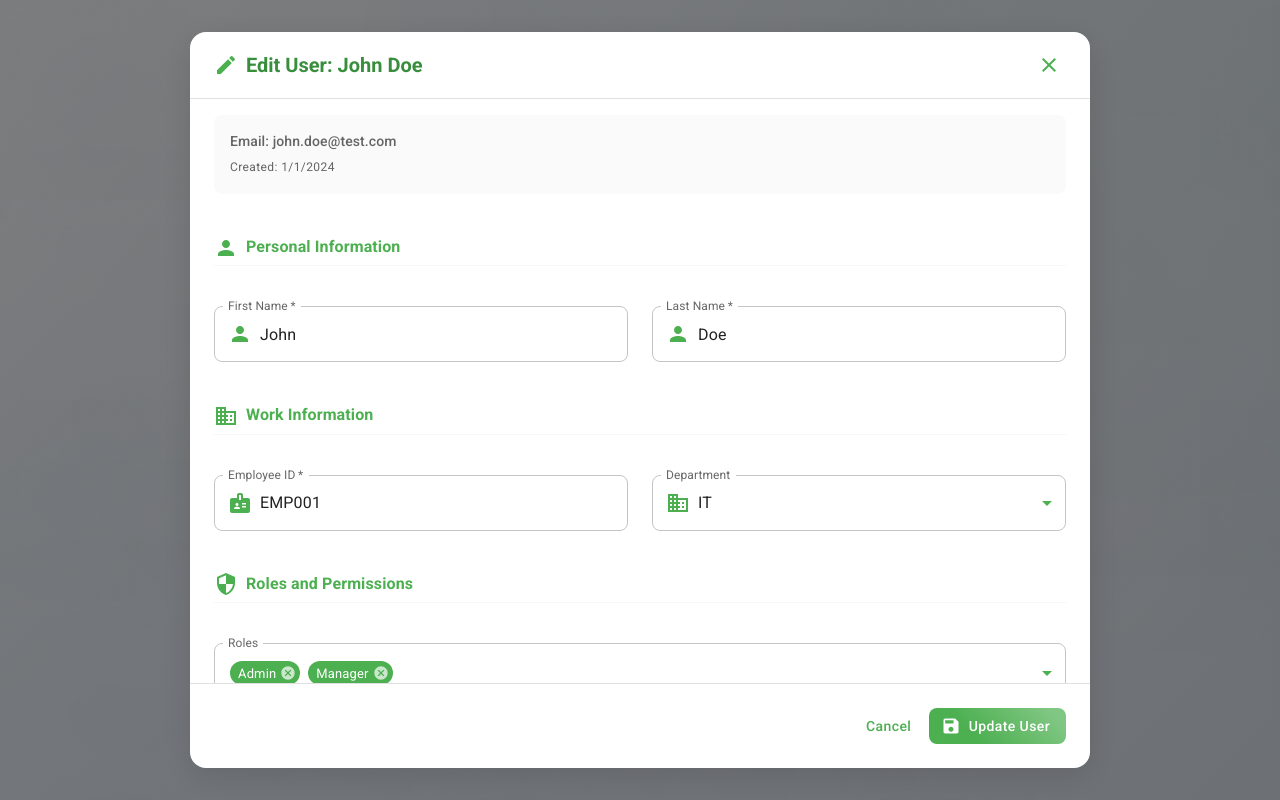
User Management Integration Tests › Error Handling Integration › handles validation errors in forms
The width and height of the screenshot is (1280, 800).
Clear required field
Clear the field showing "John": coordinates (444, 334) top-left (260, 306), bottom-right (628, 362)
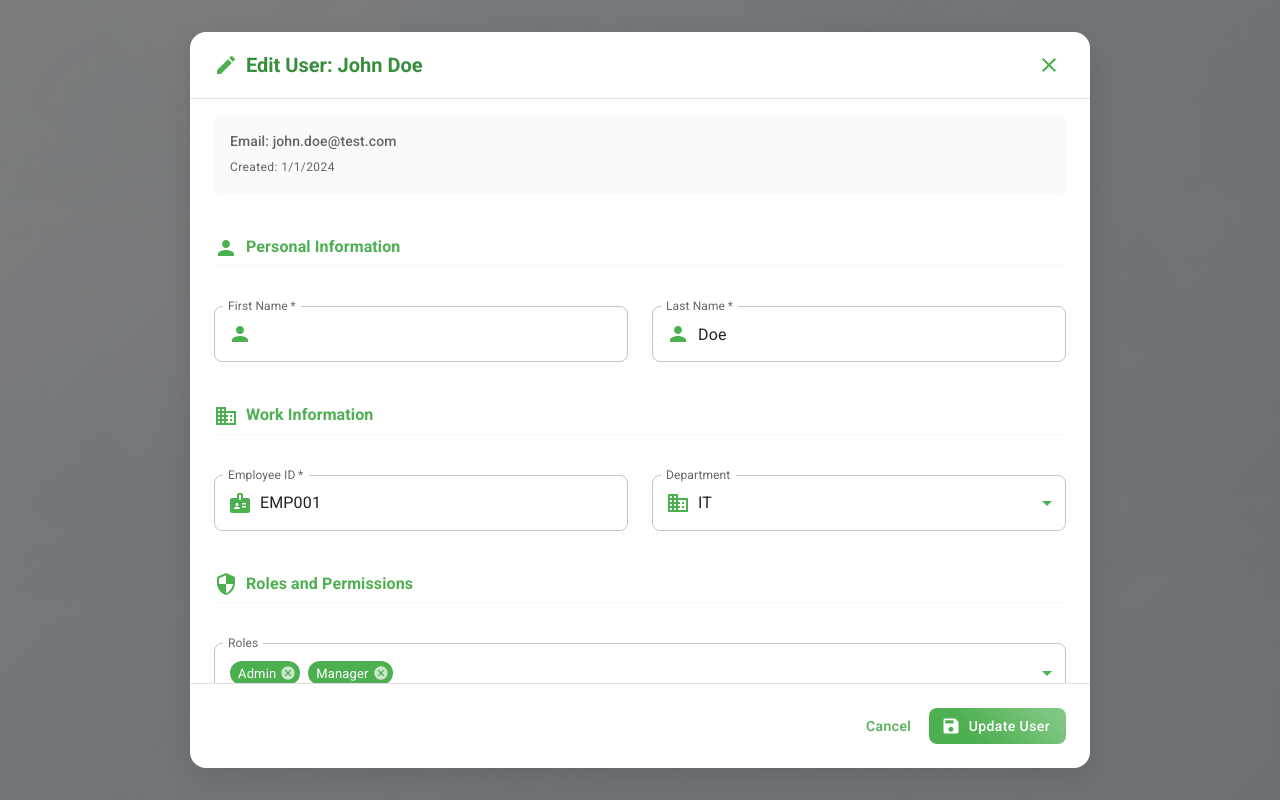
Click the button "Update User": coordinates (997, 726) top-left (929, 708), bottom-right (1066, 744)
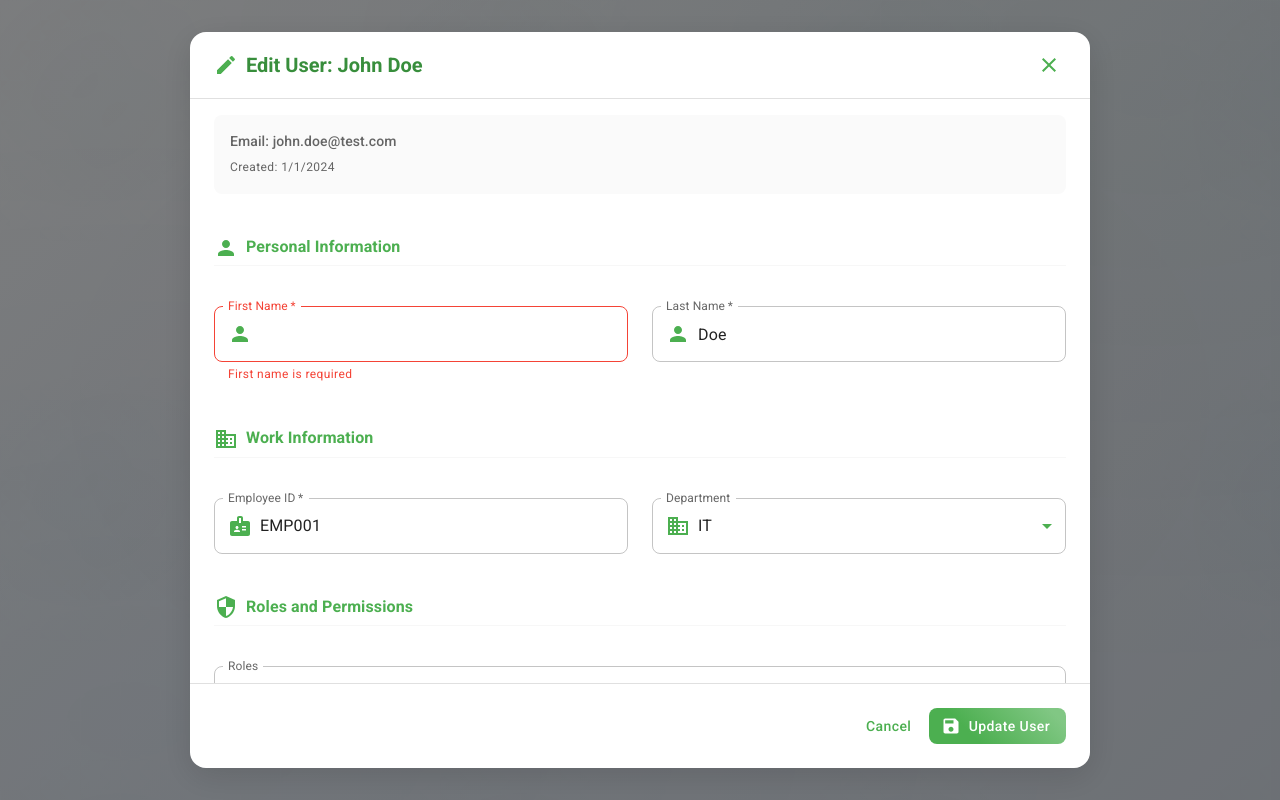
Check: the text "First name is required" is shown, box top-left (228, 367), bottom-right (352, 381)
